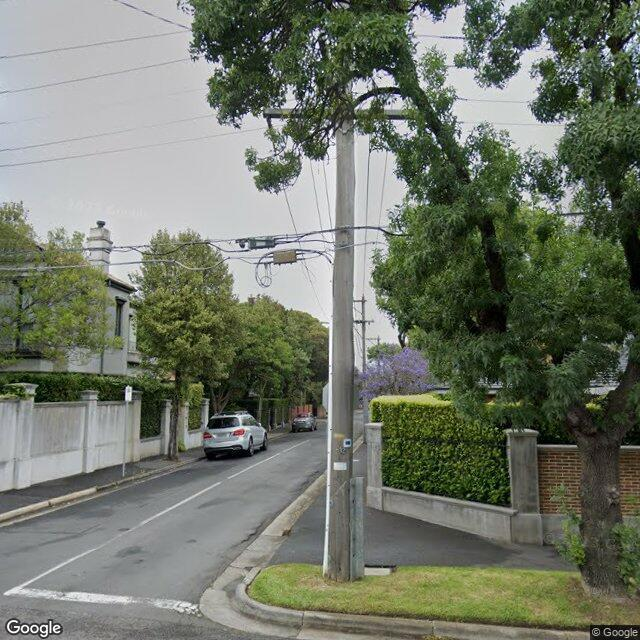crossarm: (263, 108, 422, 120), (353, 320, 375, 324), (365, 338, 381, 341), (353, 299, 367, 302)
timber-pole: (324, 77, 356, 582), (362, 293, 369, 444), (378, 335, 380, 367)
